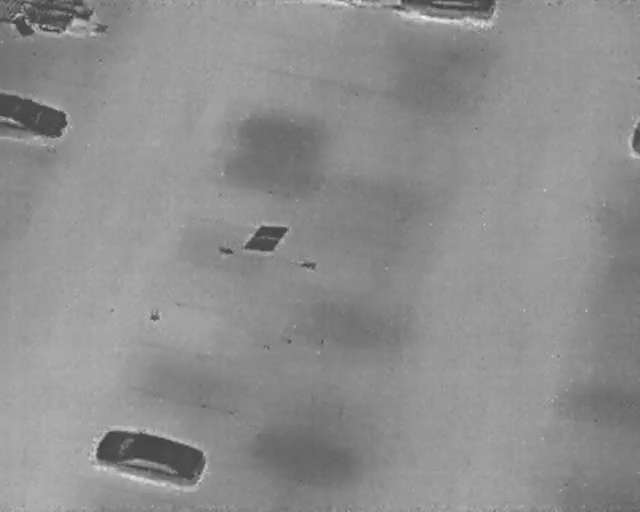Car: (84, 419, 211, 491), (0, 90, 73, 143), (396, 0, 501, 31)
DontCare: (0, 0, 112, 40)
